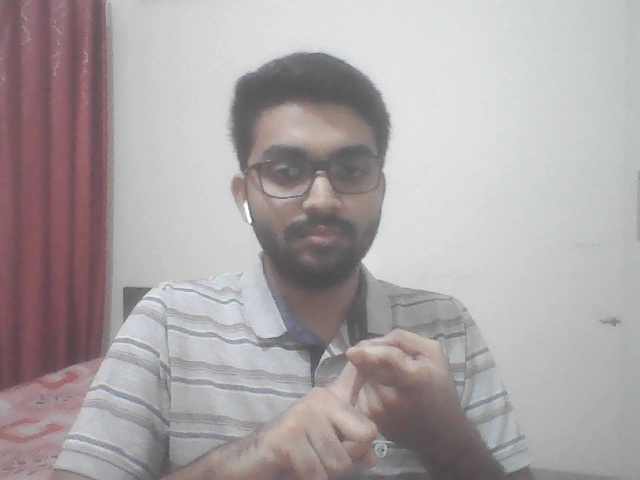friend: (197, 301, 468, 480)
